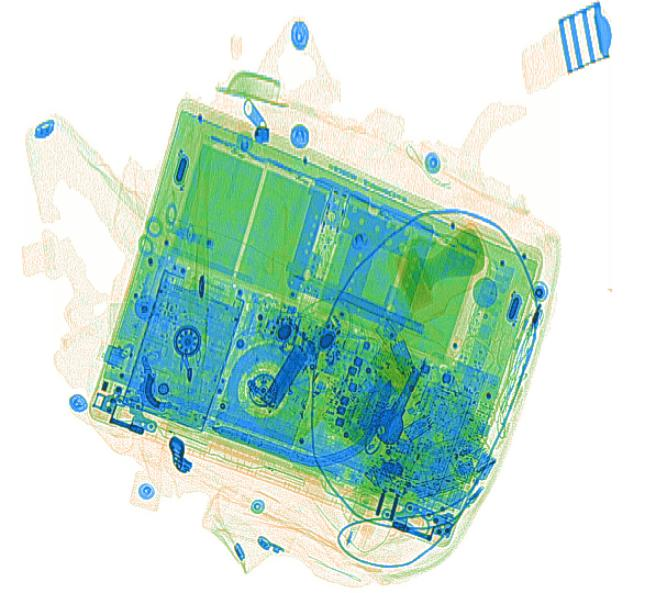battery: (260, 345, 309, 411)
seal: (339, 340, 424, 450), (385, 228, 486, 310)
